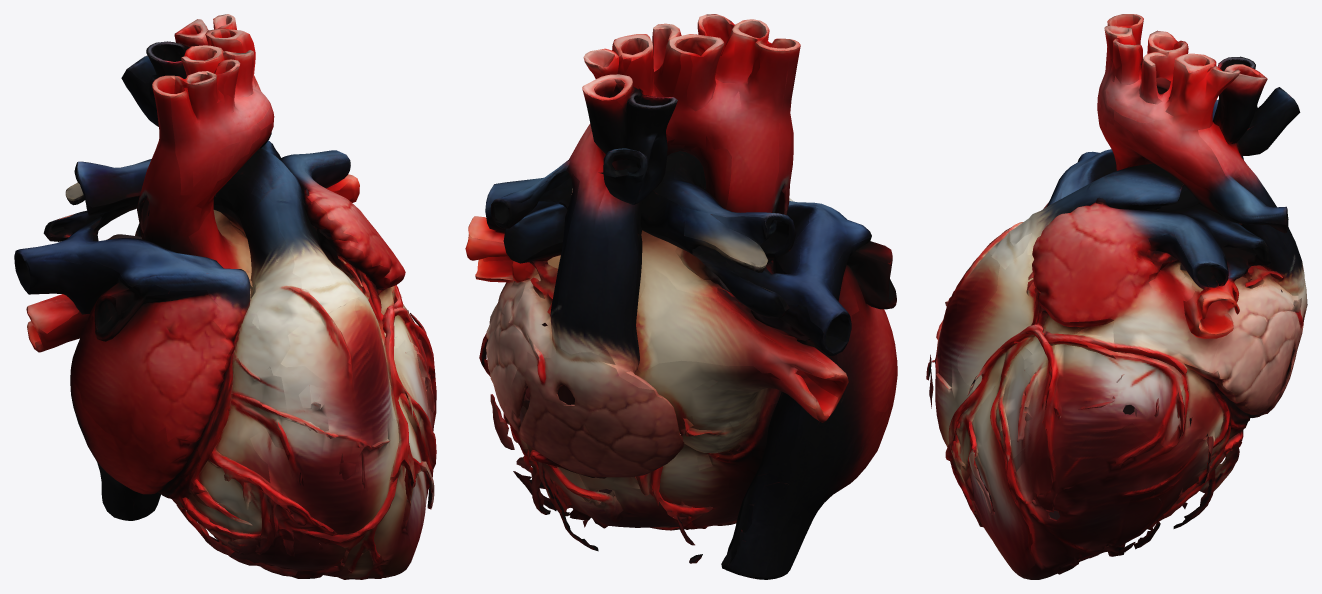
Rendered from reheart.gltf.
The picture shows the model from 3 angles, left to right: view 1: azimuth 30°, elevation 25°; view 2: azimuth 150°, elevation 25°; view 3: azimuth 270°, elevation 25°; orthographic projection. The views are drawn at different scales.
Visible parts, largest first — view 1: world; view 2: world; view 3: world.
Part boxes in pixels (box(x1,y1,x2,y2)): world: box(14, 14, 436, 579); world: box(465, 14, 897, 579); world: box(926, 14, 1307, 579).
Bounding box in the file's own units: 0.7119 × 0.9995 × 0.7173.
Materials: 1 (1 with a texture image).
